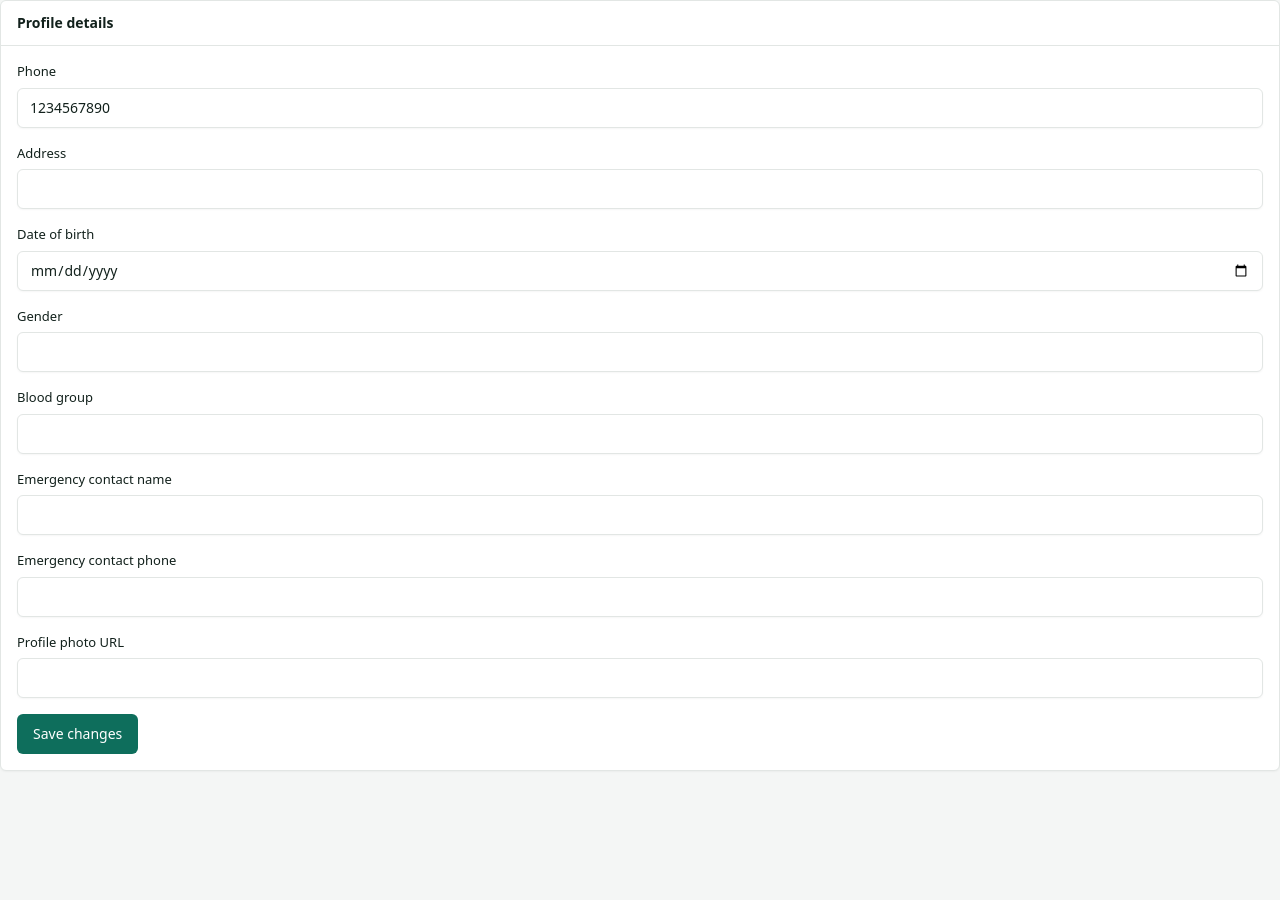
Test: ProfileForm › saves an edited field
This screenshot has width=1280, height=900.
Replace the text in the field labelled "Phone" with "9999999999" at (640, 108), box x1=17 y1=88 x2=1263 y2=128
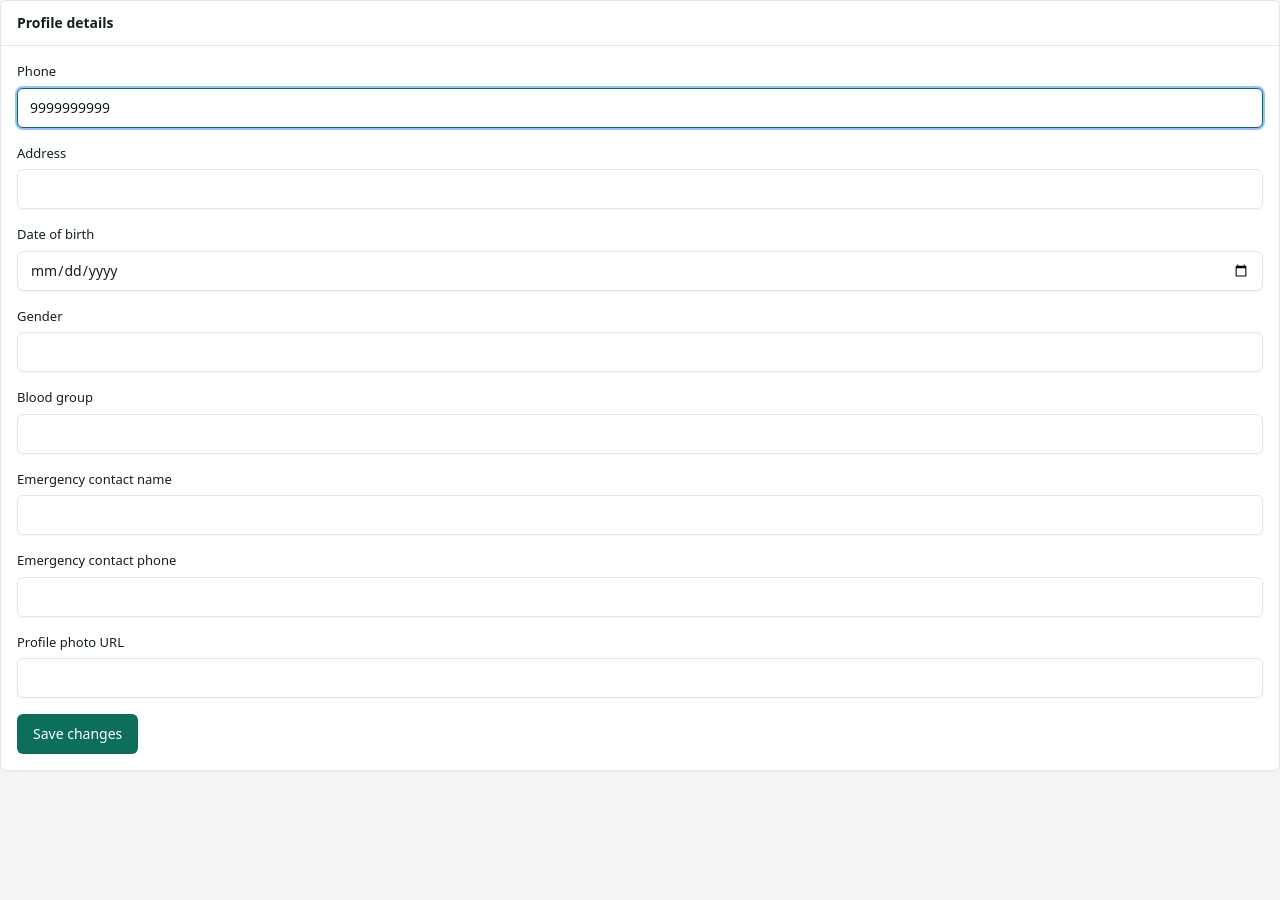
Click the button "Save changes" at (78, 734), box x1=17 y1=714 x2=138 y2=754
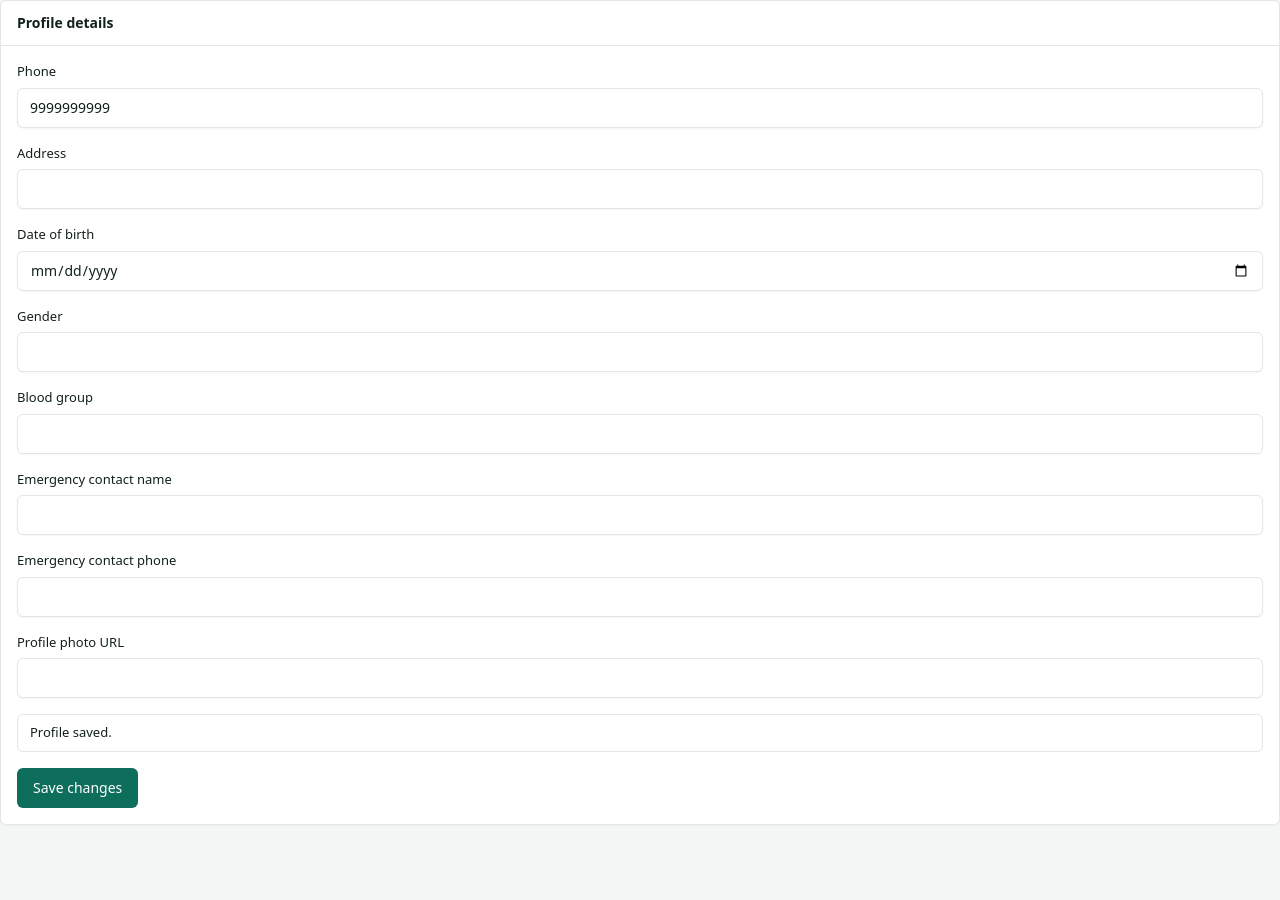
Check: the text "Profile saved." is shown, box x1=17 y1=714 x2=1263 y2=752
